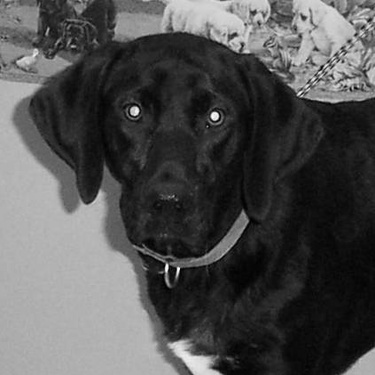dog: (21, 27, 373, 374)
